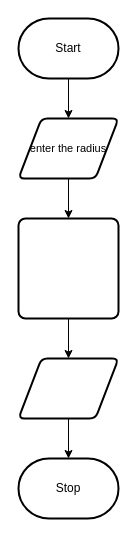
Some shapes in this 136 by 536 pixel diagram are drawn without their labels. Each missing label, with the centre of its shape:
the radius: [68,388]
V = 4 3 π r 3: [68,268]
